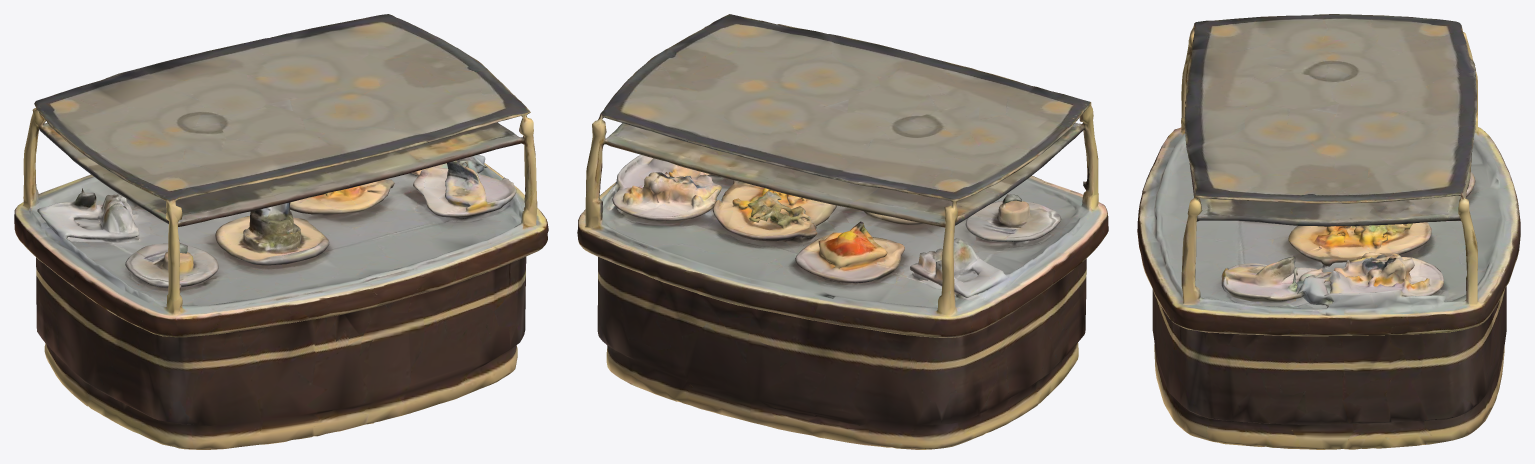
The model's file is culinary-display-counter.glb.
3 renders of one model, left to right at view 1: azimuth 30°, elevation 25°; view 2: azimuth 150°, elevation 25°; view 3: azimuth 270°, elevation 25°, orthographic.
Bounding box in the file's own units: 2 × 1.17 × 1.61.
1 material, 1 textured.
